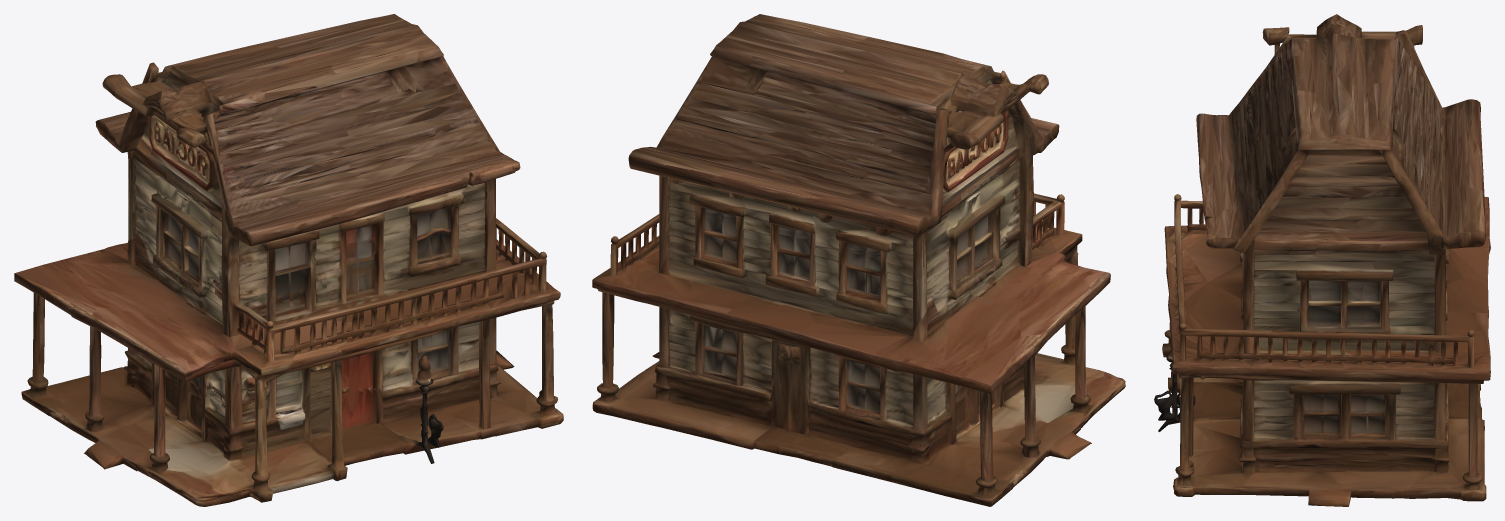
The model's file is bld_west_saloon2f.fbx.
The picture shows the model from 3 angles, left to right: view 1: azimuth 30°, elevation 25°; view 2: azimuth 150°, elevation 25°; view 3: azimuth 270°, elevation 25°; orthographic projection. The views are drawn at different scales.
Parts seen in each view (by area): view 1: bld_west_saloon2f_LOD0; view 2: bld_west_saloon2f_LOD0; view 3: bld_west_saloon2f_LOD0.
Part boxes in pixels (x1=…): bld_west_saloon2f_LOD0: x1=14, y1=14, x2=563, y2=506; bld_west_saloon2f_LOD0: x1=592, y1=14, x2=1125, y2=506; bld_west_saloon2f_LOD0: x1=1154, y1=14, x2=1490, y2=506.
Size of what is drawn, in the model's own units: 0.9831 by 0.7958 by 0.7226.
